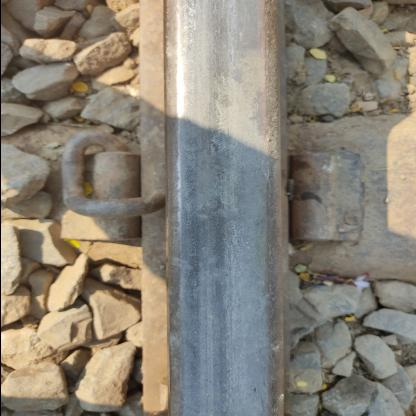Defective: (254, 112, 400, 266)
